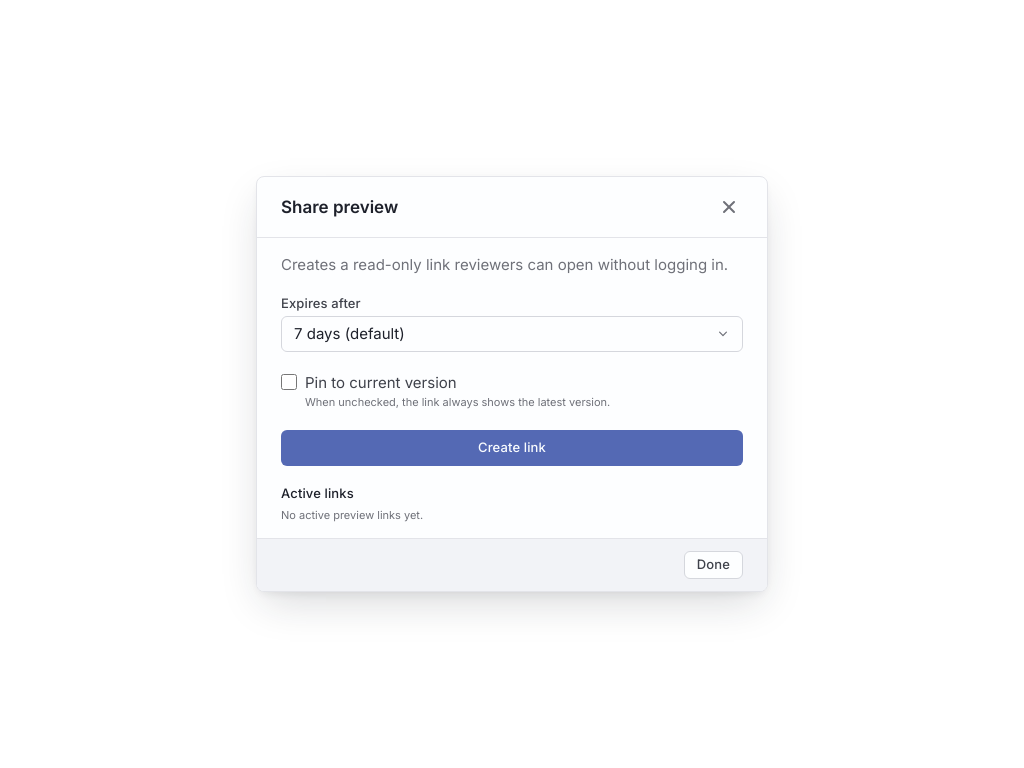
Scenario: ShareLinkDialog › creates a new link with the selected expiry and version pinning
// Default expiry is 7, switch to 14
Select "14 days" in the dropdown labelled "Expires after" at (512, 334), box [281,316,743,352]
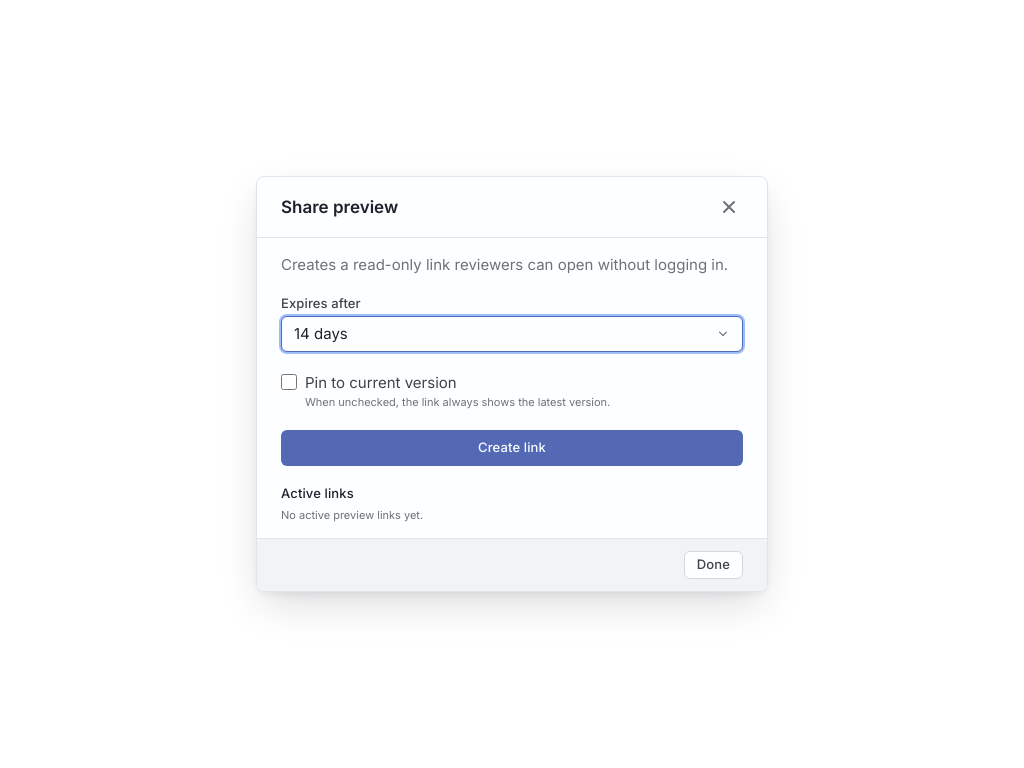
Click the checkbox labelled "Pin to current version".
click(289, 382)  # box [281,374,297,390]
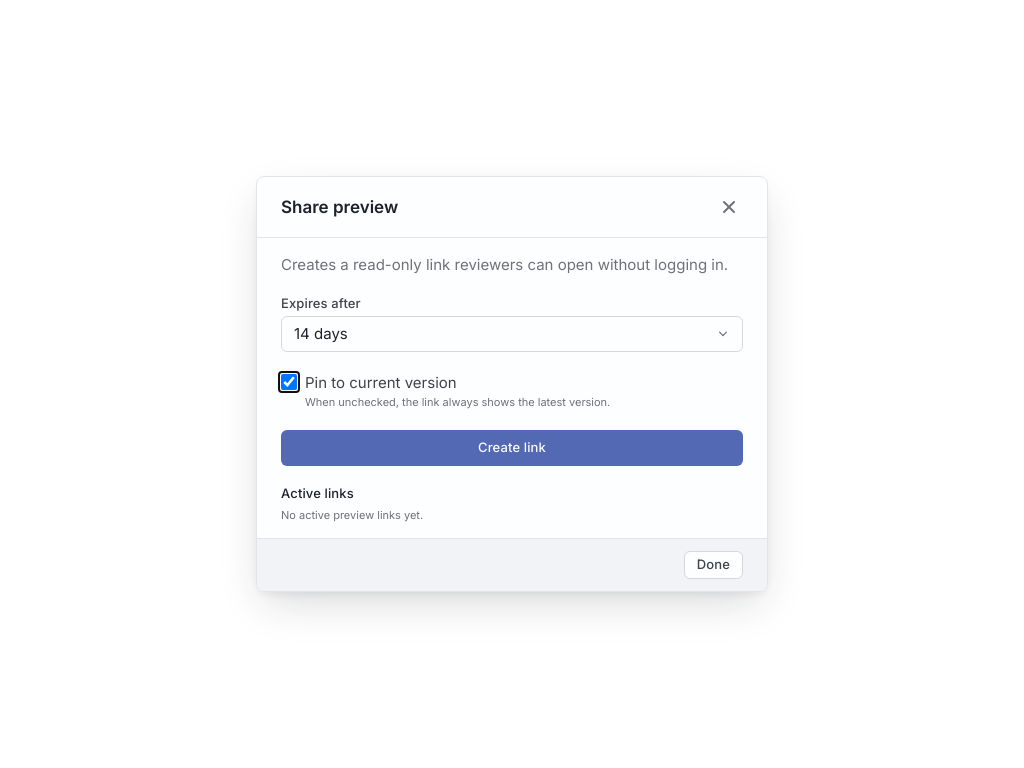
Click the button "Create link".
click(512, 448)  # box [281,430,743,466]
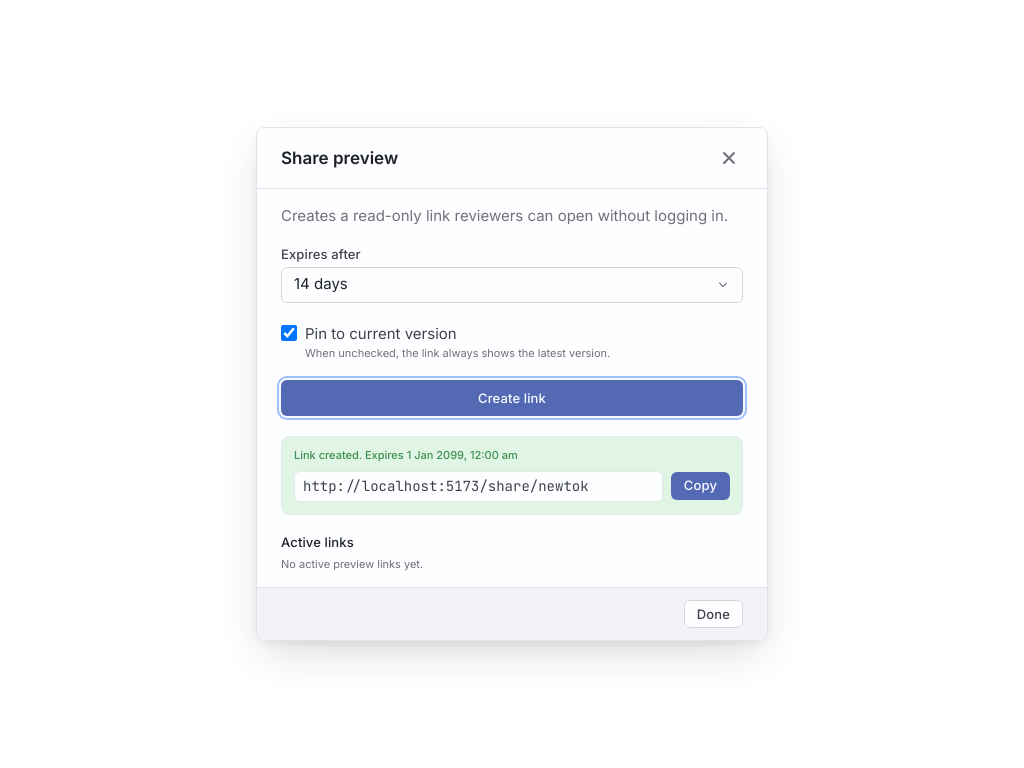
Expected: the element with test id "share-link-created" is shown, [281,436,743,515]
Expected: the field named "created preview url" holds "http://localhost:5173/share/newtok", [294,471,663,502]
